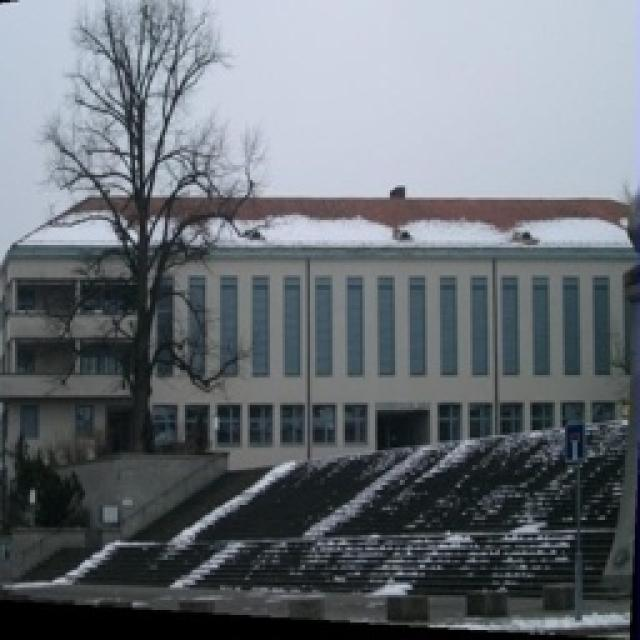building: (7, 190, 640, 495)
